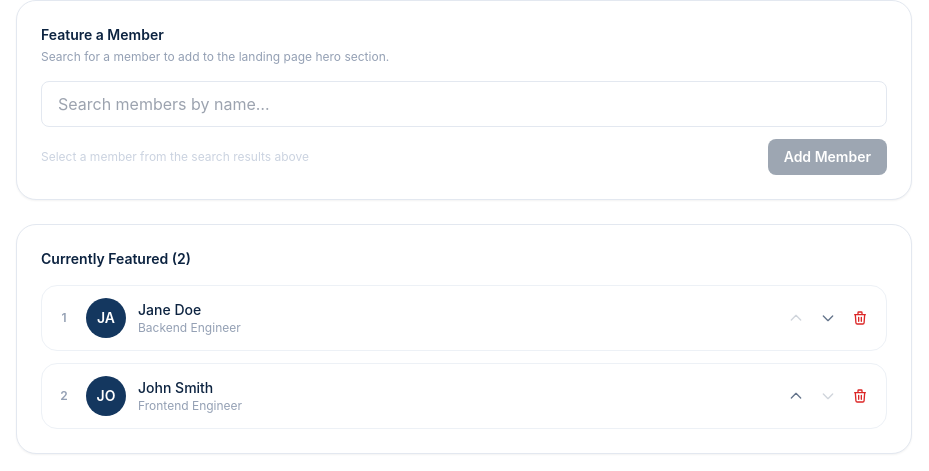
Test case: HeroMembersManagement › excludes already-featured users from the picker search results
Check: the heading "Currently Featured (2)" is shown, box [41,250,191,267]
Type "a" into the field with placeholder "Search members by name…".
click(464, 104); type("a")  # box [41,81,887,127]
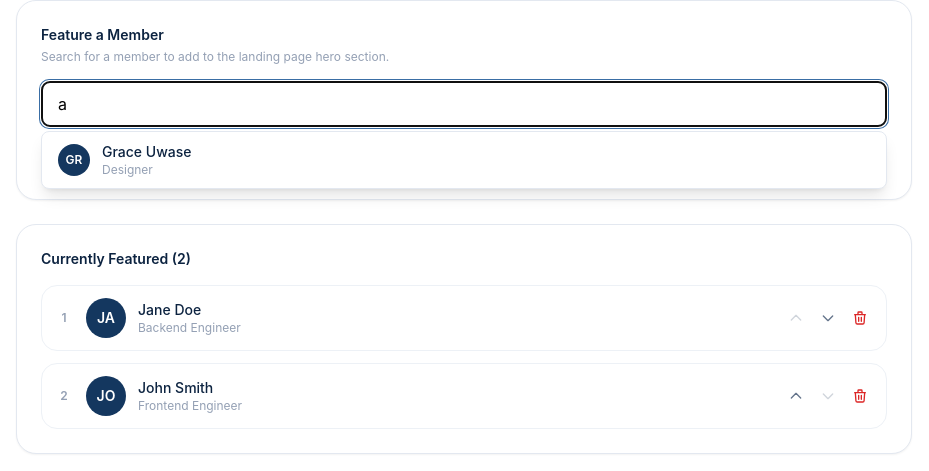
Check: the text "Jane Doe" is shown once, box [138,301,201,318]
Check: the text "Grace Uwase" is shown, box [102,142,192,162]
